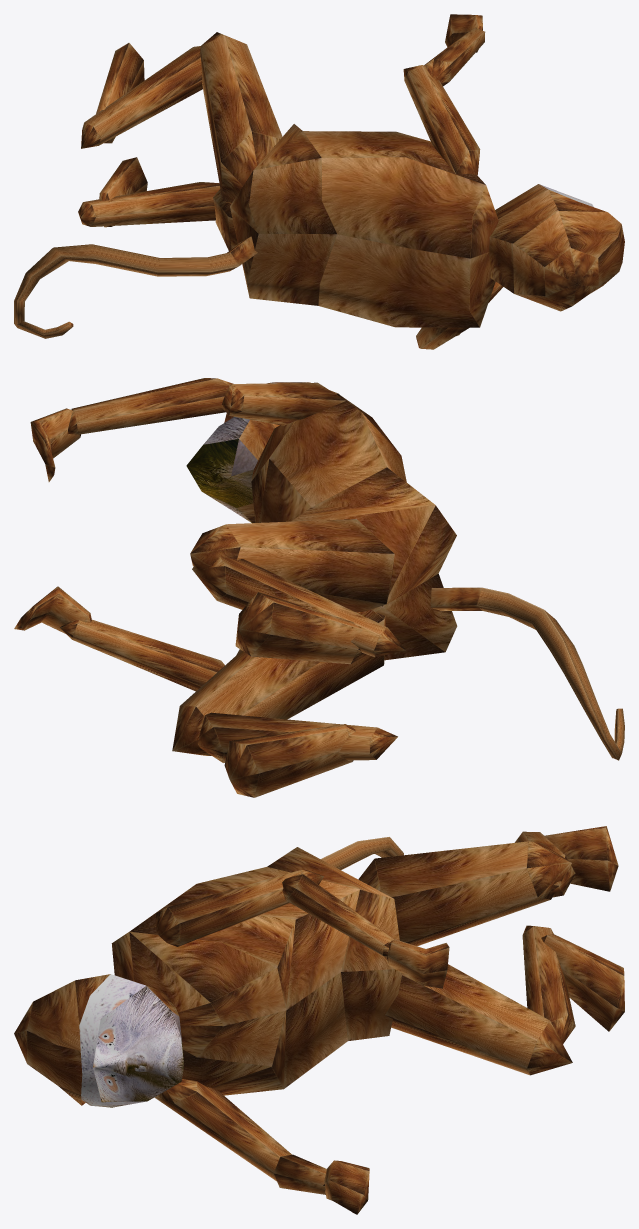
File: monkey_000100.obj
3 views of the same model, one above another, from view 1: azimuth 30°, elevation 25°; view 2: azimuth 150°, elevation 25°; view 3: azimuth 270°, elevation 25° (orthographic). The views are drawn at different scales.
Parts seen in each view (by area): view 1: Cylinder_Cylinder.001, head.002_Sphere.002, Cylinder.001_Cylinder.002, Cylinder.013_Cylinder, Cylinder.004_Cylinder.005, Cylinder.003_Cylinder.004, Cylinder.008_Cylinder.009, Cylinder.006_Cylinder.007, Cylinder.009_Cylinder.011, Cylinder.005_Cylinder.006, Cylinder.002_Cylinder.003, Cylinder.011_Cylinder.013 (+1 smaller); view 2: Cylinder_Cylinder.001, Cylinder.001_Cylinder.002, Cylinder.002_Cylinder.003, Cylinder.006_Cylinder.007, Cylinder.005_Cylinder.006, Cylinder.013_Cylinder, Cylinder.004_Cylinder.005, head.002_Sphere.002, Cylinder.009_Cylinder.011, Cylinder.010_Cylinder.012, Cylinder.003_Cylinder.004, Cylinder.008_Cylinder.009 (+2 smaller); view 3: Cylinder_Cylinder.001, head.002_Sphere.002, Cylinder.001_Cylinder.002, Cylinder.002_Cylinder.003, Cylinder.008_Cylinder.009, Cylinder.011_Cylinder.013, Cylinder.005_Cylinder.006, Cylinder.003_Cylinder.004, Cylinder.009_Cylinder.011, Cylinder.006_Cylinder.007, Cylinder.007_Cylinder.008, Cylinder.012_Cylinder.000 (+3 smaller).
Part boxes in pixels (box(x1,y1,x2,y2)): Cylinder_Cylinder.001: box(230, 124, 498, 327); head.002_Sphere.002: box(489, 184, 624, 311); Cylinder.001_Cylinder.002: box(200, 32, 282, 203); Cylinder.013_Cylinder: box(14, 236, 257, 338); Cylinder.004_Cylinder.005: box(81, 46, 202, 148); Cylinder.003_Cylinder.004: box(78, 182, 220, 226); Cylinder.008_Cylinder.009: box(403, 65, 480, 175); Cylinder.006_Cylinder.007: box(96, 43, 144, 143); Cylinder.009_Cylinder.011: box(424, 27, 485, 86); Cylinder.005_Cylinder.006: box(99, 157, 147, 227); Cylinder.002_Cylinder.003: box(213, 189, 237, 250); Cylinder.011_Cylinder.013: box(416, 327, 469, 349); Cylinder_Cylinder.001: box(251, 394, 457, 660); Cylinder.001_Cylinder.002: box(190, 519, 394, 612); Cylinder.002_Cylinder.003: box(172, 609, 385, 755); Cylinder.006_Cylinder.007: box(235, 592, 366, 664); Cylinder.005_Cylinder.006: box(224, 724, 355, 797); Cylinder.013_Cylinder: box(430, 587, 624, 760); Cylinder.004_Cylinder.005: box(192, 556, 405, 657); head.002_Sphere.002: box(186, 382, 339, 523); Cylinder.009_Cylinder.011: box(68, 378, 233, 434); Cylinder.010_Cylinder.012: box(60, 619, 224, 691); Cylinder.003_Cylinder.004: box(198, 712, 397, 762); Cylinder.008_Cylinder.009: box(221, 382, 345, 425); Cylinder_Cylinder.001: box(111, 847, 402, 1095); head.002_Sphere.002: box(14, 974, 183, 1107); Cylinder.001_Cylinder.002: box(358, 841, 571, 946); Cylinder.002_Cylinder.003: box(385, 964, 572, 1075); Cylinder.008_Cylinder.009: box(156, 869, 323, 946); Cylinder.011_Cylinder.013: box(154, 1079, 291, 1181); Cylinder.005_Cylinder.006: box(541, 934, 624, 1031); Cylinder.003_Cylinder.004: box(522, 925, 575, 1043); Cylinder.009_Cylinder.011: box(282, 873, 394, 957); Cylinder.006_Cylinder.007: box(543, 826, 618, 891); Cylinder.007_Cylinder.008: box(384, 939, 449, 988); Cylinder.012_Cylinder.000: box(324, 1160, 369, 1214).
Bounding box in the file's own units: 1.89 × 0.9785 × 1.69.
